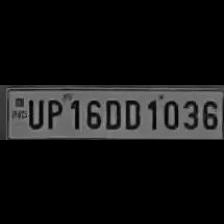0: (160, 96, 180, 130)
1: (64, 96, 82, 130), (142, 96, 160, 130)
3: (181, 96, 199, 130)
6: (82, 96, 102, 128), (200, 96, 218, 130)
D: (121, 94, 141, 130), (102, 96, 120, 128)
P: (43, 96, 62, 130)
U: (25, 96, 43, 128)
